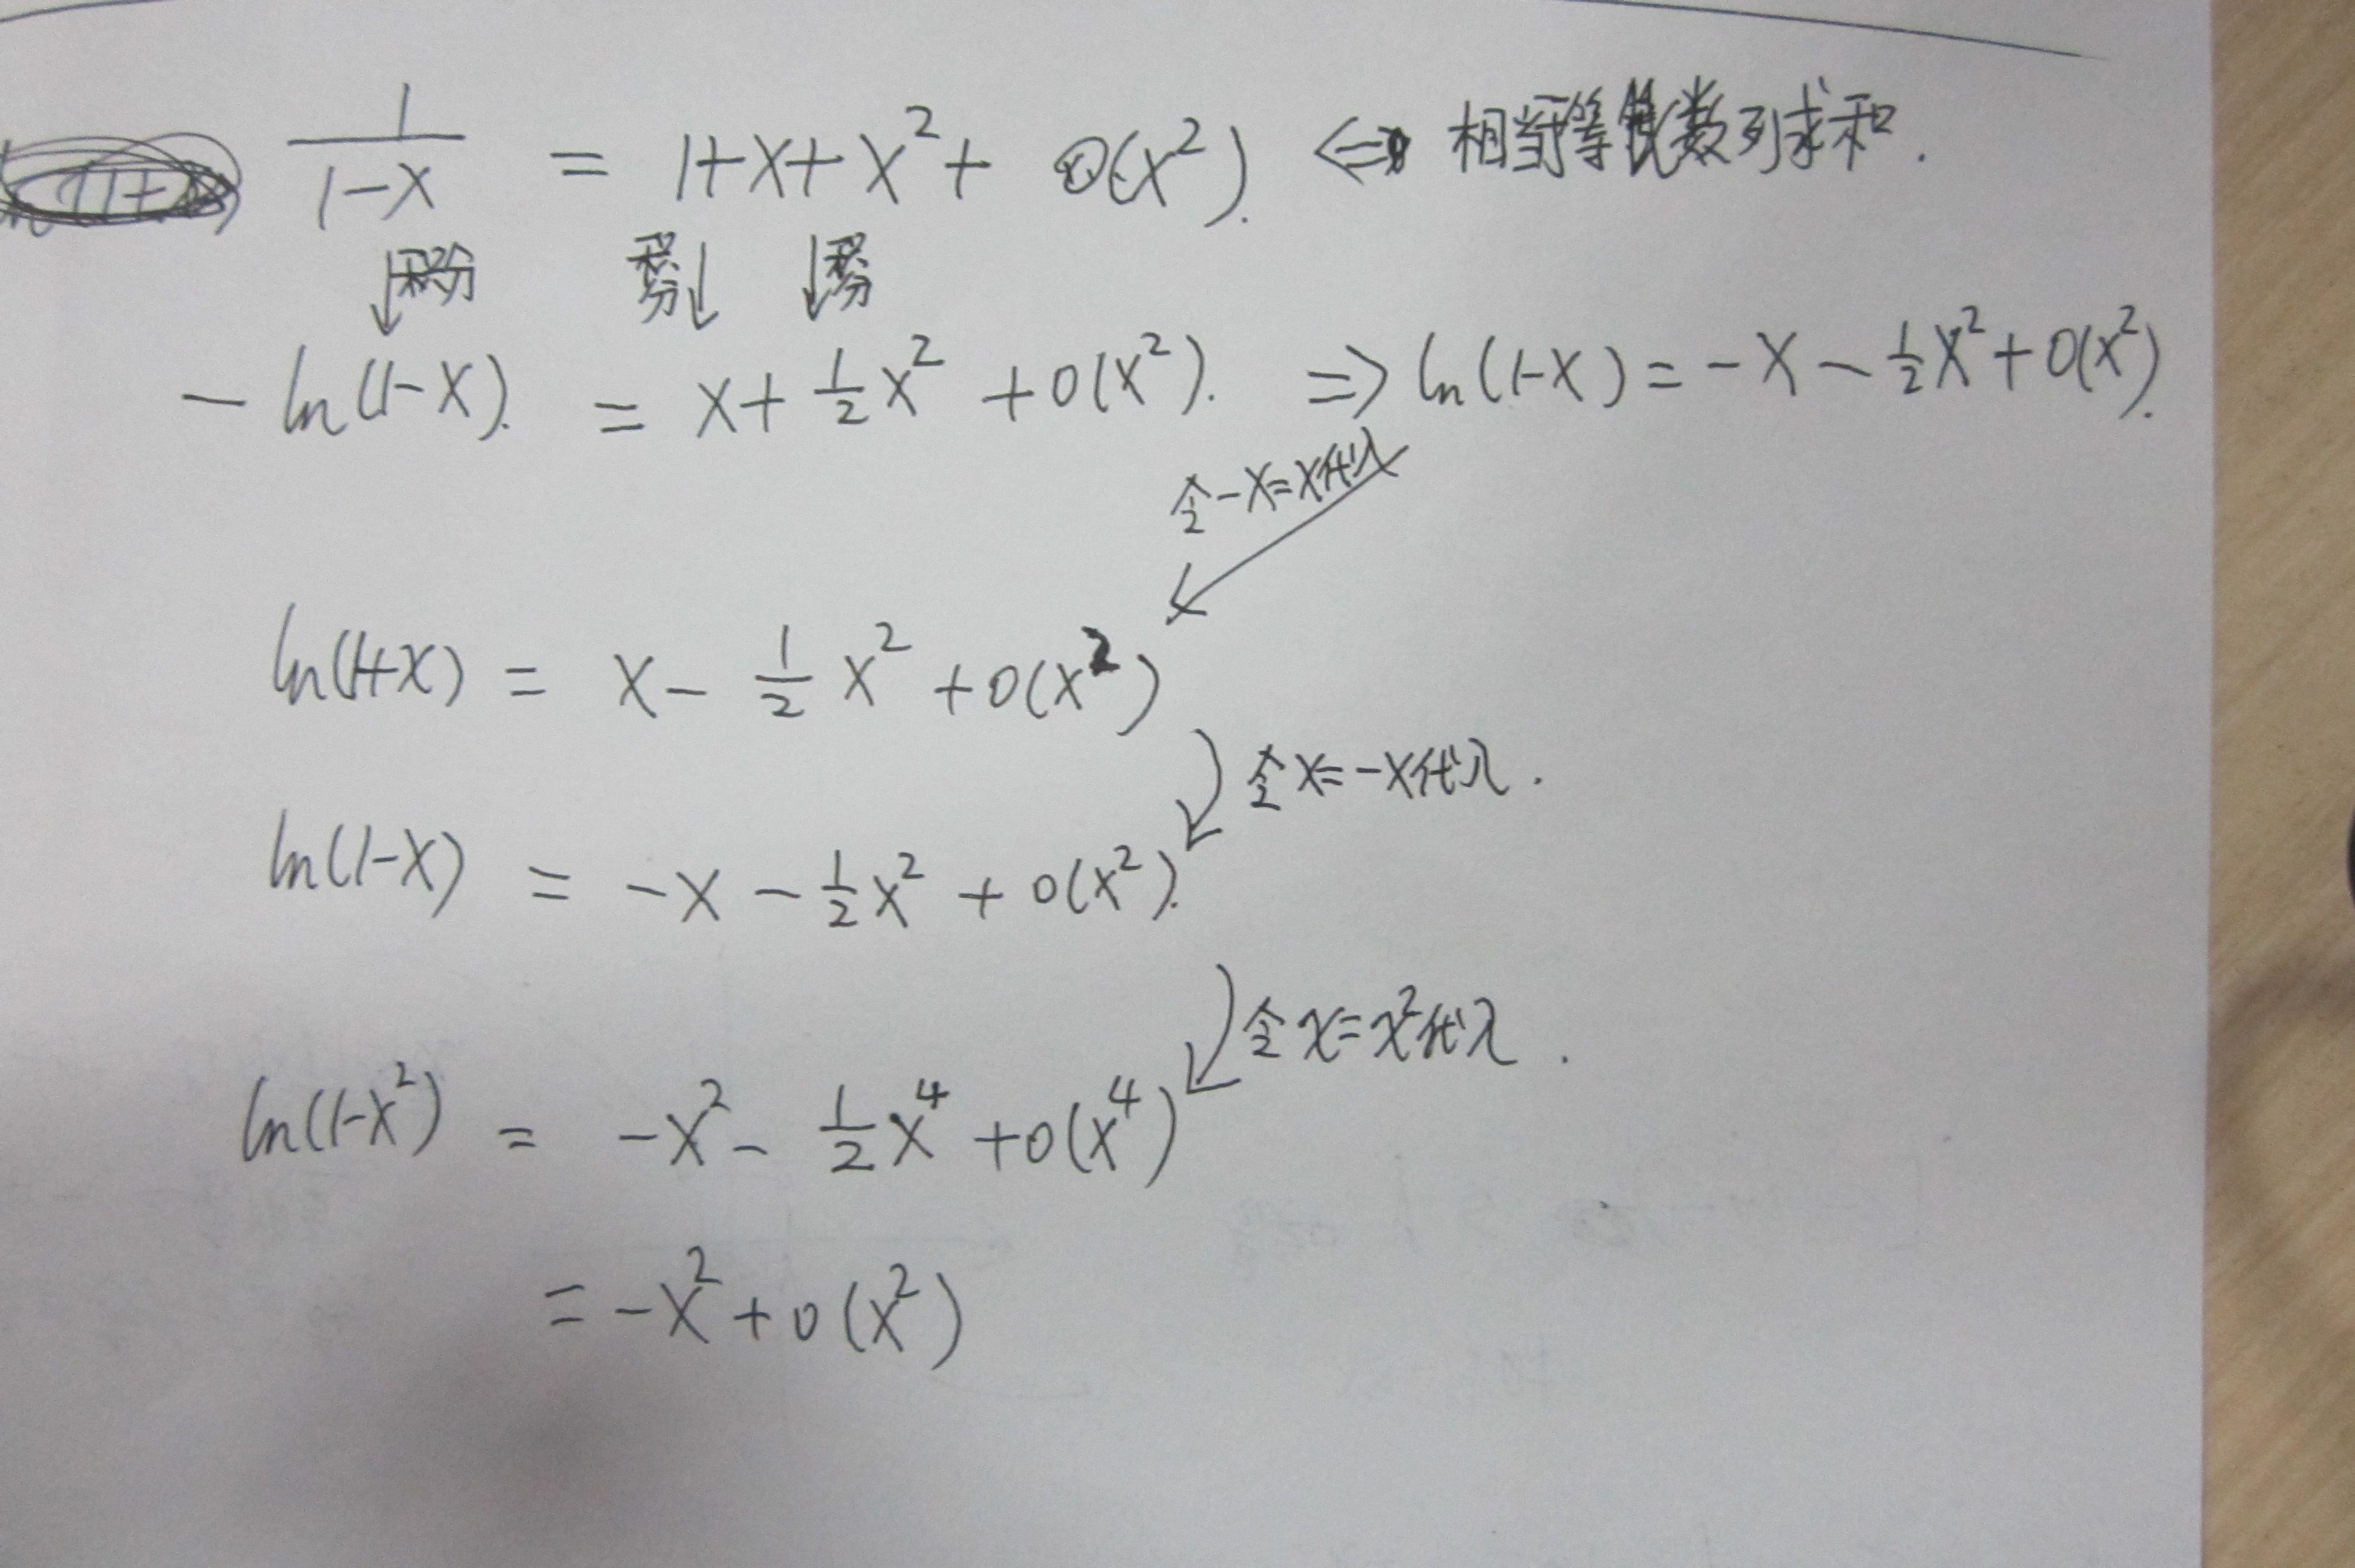division: (248, 119, 478, 150), (814, 1118, 875, 1139), (759, 665, 819, 681), (807, 387, 866, 399)
square: (898, 87, 943, 163), (891, 320, 943, 383), (864, 609, 908, 656), (1132, 318, 1172, 369), (1104, 840, 1148, 885), (1172, 112, 1214, 159), (2115, 292, 2149, 350), (889, 840, 926, 889), (887, 1260, 922, 1311), (1953, 296, 1988, 343), (686, 1242, 717, 1293), (383, 1055, 420, 1090), (698, 1074, 728, 1115)
